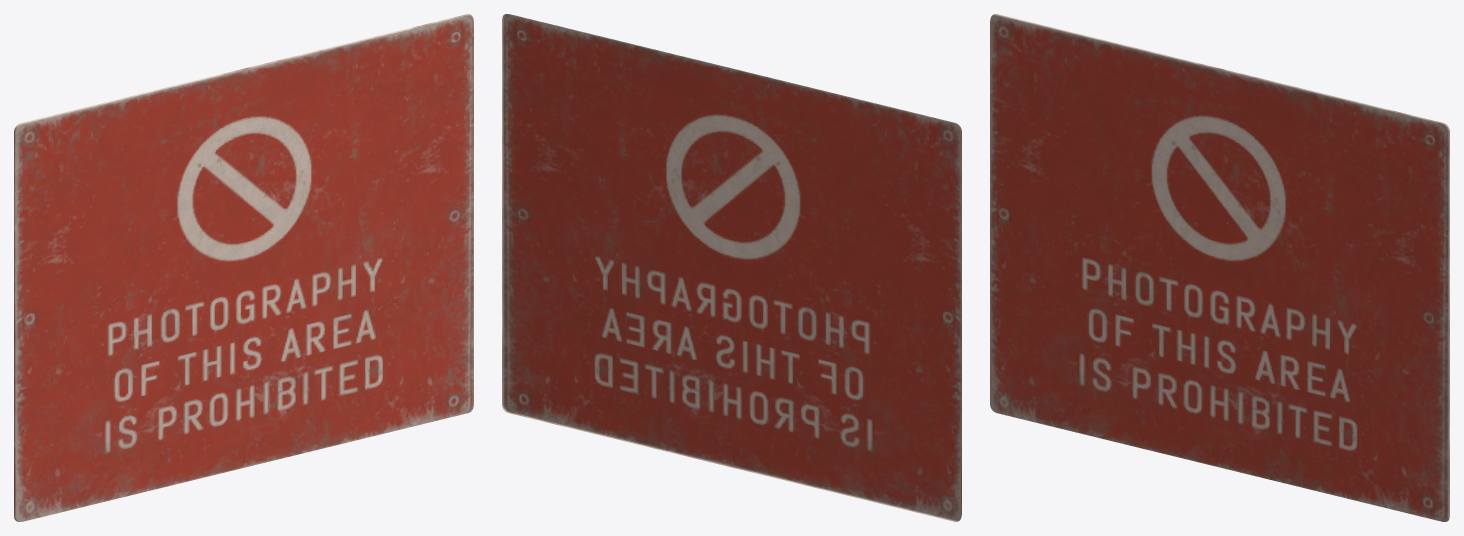
Rendered from SM_Sign_01e.glb.
3 renders of one model, left to right at view 1: azimuth 30°, elevation 25°; view 2: azimuth 150°, elevation 25°; view 3: azimuth 330°, elevation 25°, orthographic.
Visible parts, largest first — view 1: SM_Sign_01e; view 2: SM_Sign_01e; view 3: SM_Sign_01e.
Part boxes in pixels (left/top/right/bottom): SM_Sign_01e: left=14, top=14, right=473, bottom=521; SM_Sign_01e: left=502, top=14, right=961, bottom=521; SM_Sign_01e: left=990, top=14, right=1449, bottom=521.
Size of the model in its own units: 0.424 by 0.3517 by 0.00195.
1 material, 1 textured.
